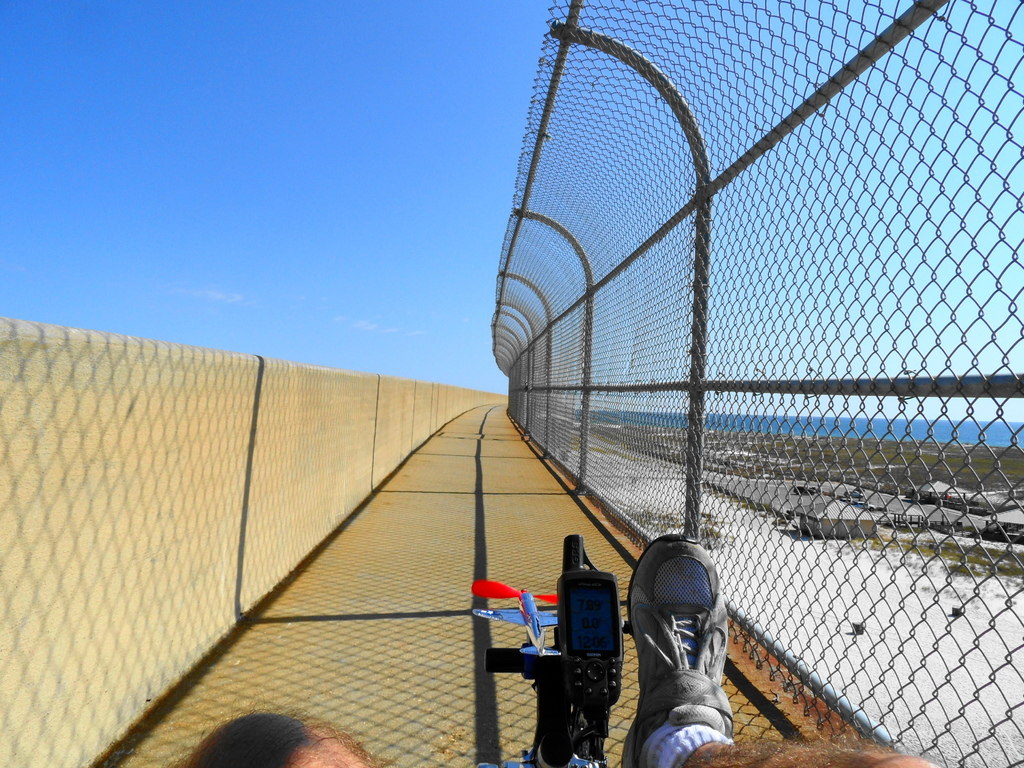Footwear: (614, 533, 730, 767)
